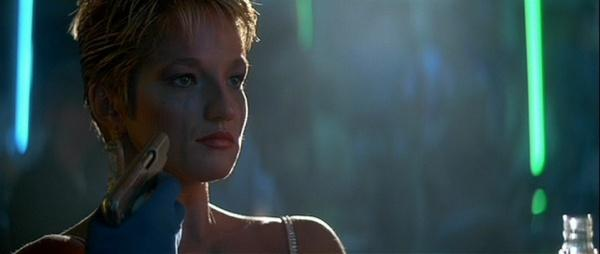Gun: (101, 133, 172, 228)
